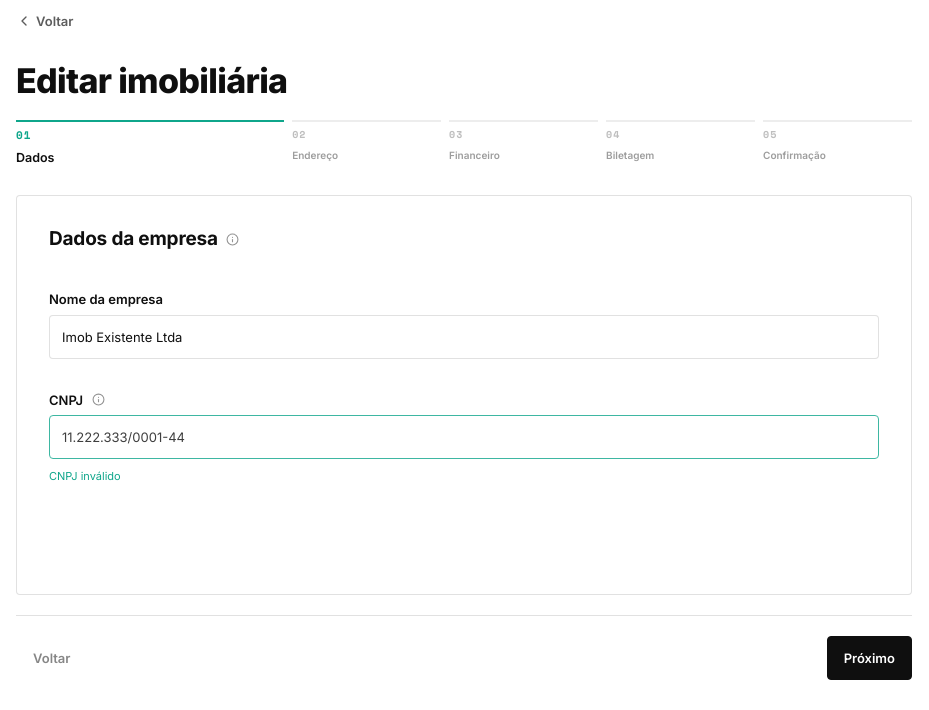
Test: Agency — edit mode (route /agencies/:id/edit) › renders the Biletagem section on its own step (step 4), not on step 1
Expected: the field labelled "Nome da empresa" holds "Imob Existente Ltda", top-left (49, 315), bottom-right (879, 359)
Expected: the text "Produtos oferecidos" is not shown
Step 1. Click the button "Próximo" → (869, 658), box top-left (827, 636), bottom-right (912, 680)
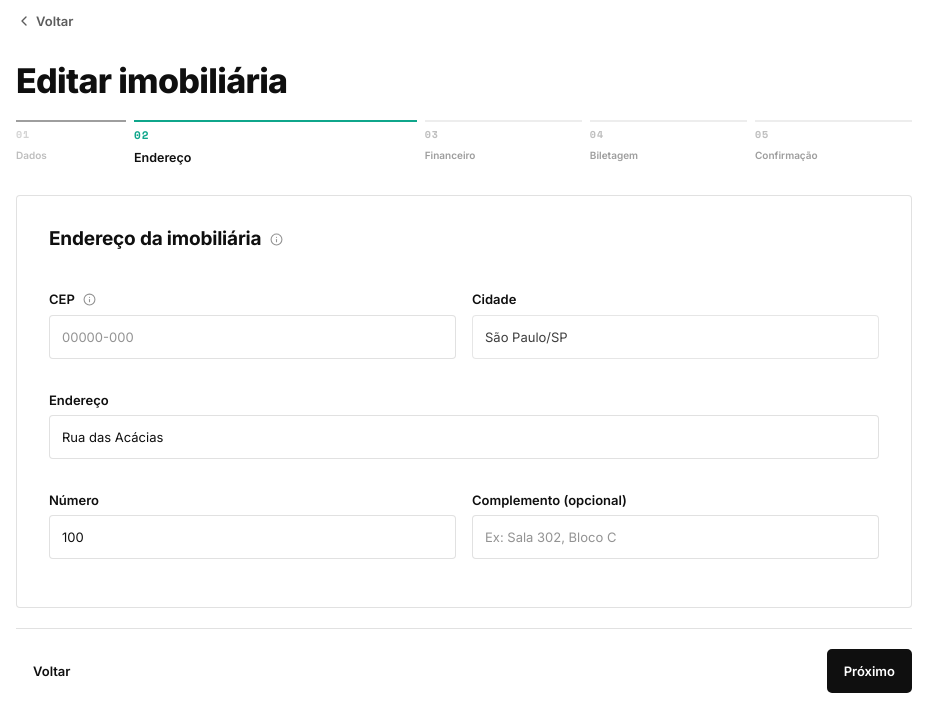
Step 2. Click the button "Próximo" → (869, 671), box top-left (827, 649), bottom-right (912, 693)
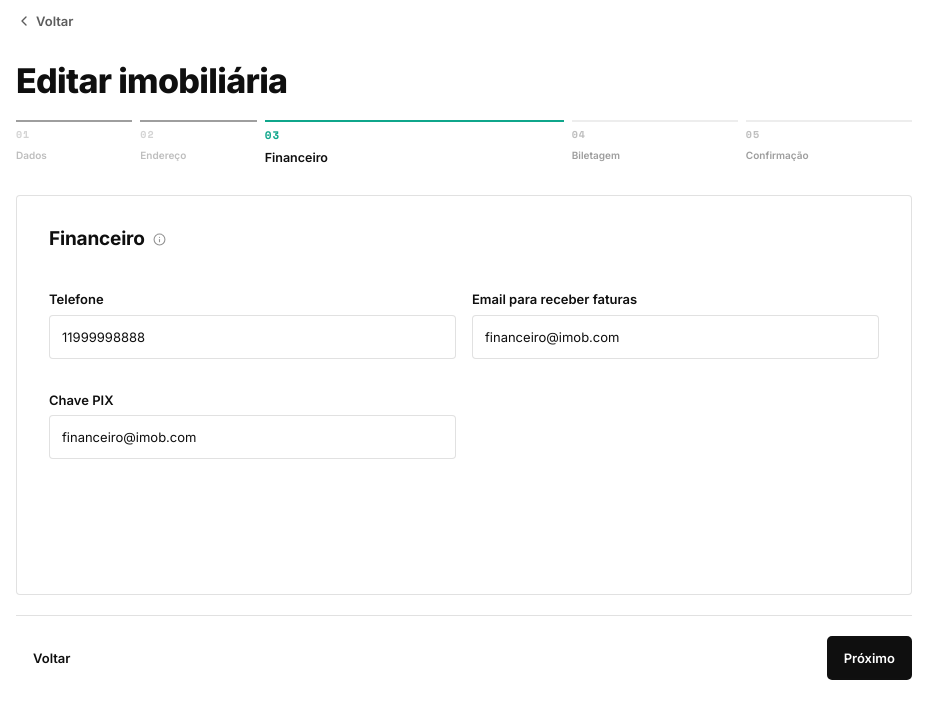
Step 3. Click the button "Próximo" → (869, 658), box top-left (827, 636), bottom-right (912, 680)
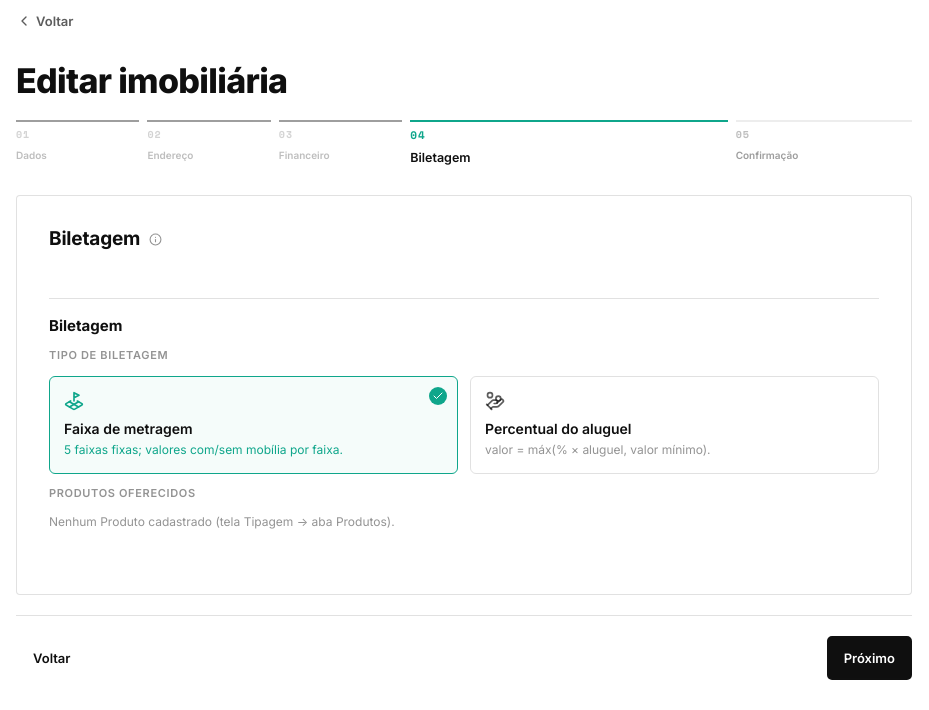
Expected: the text "Produtos oferecidos" is shown, top-left (49, 486), bottom-right (196, 500)
